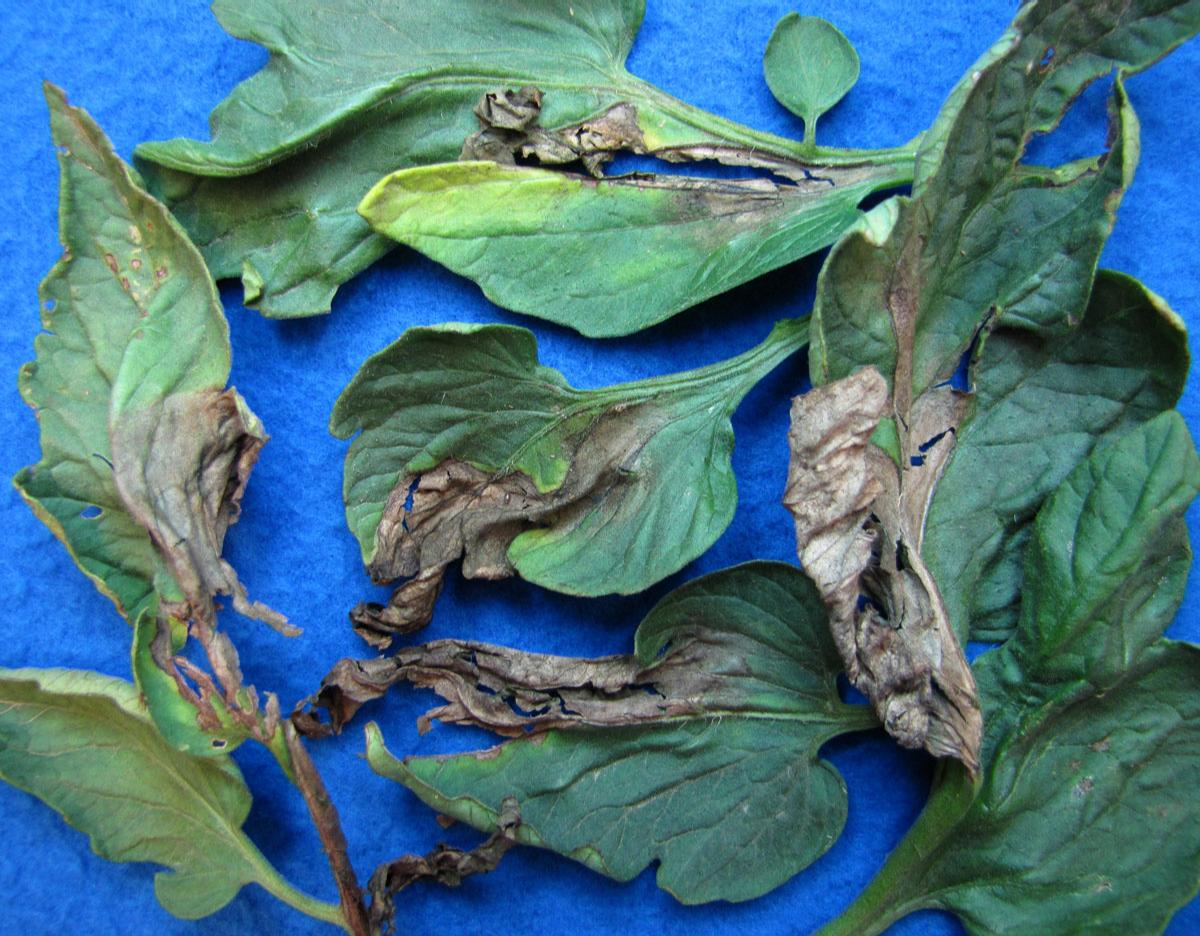Tomato leaf late blight: (779, 13, 1188, 693), (321, 553, 919, 897), (11, 74, 292, 721), (384, 23, 923, 331), (316, 316, 787, 596)
